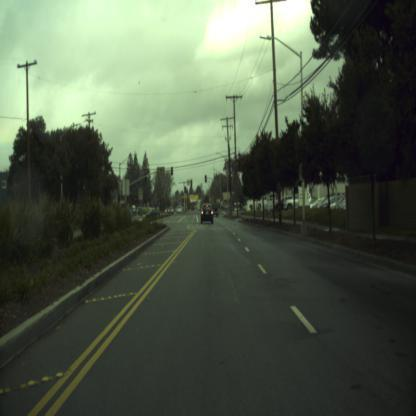Yellow: (204, 173, 208, 182), (134, 194, 137, 202), (190, 178, 192, 187), (184, 185, 186, 192), (220, 193, 221, 201)
